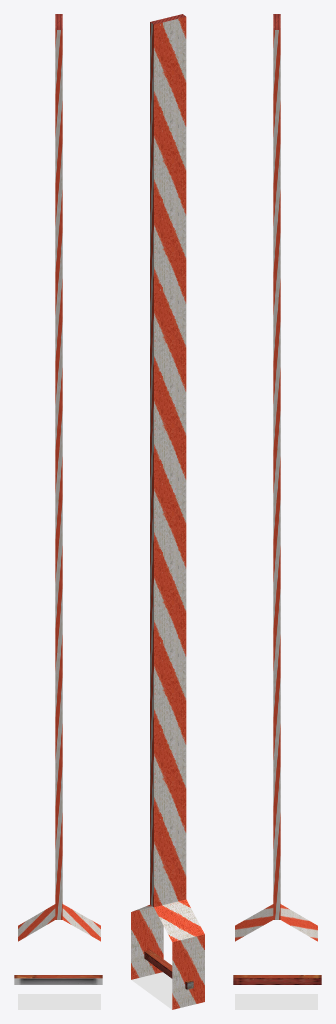
Rendered from barrierturn.obj.
3 renders of one model, left to right at view 1: azimuth 90°, elevation 25°; view 2: azimuth 210°, elevation 25°; view 3: azimuth 270°, elevation 25°, orthographic.
Parts seen in each view (by area): view 1: barrierturn_l0; view 2: barrierturn_l0; view 3: barrierturn_l0.
Boxes of the visible parts, bbox=[...] form: barrierturn_l0: bbox=[14, 14, 102, 1009]; barrierturn_l0: bbox=[131, 14, 204, 1009]; barrierturn_l0: bbox=[233, 14, 321, 1009].
Size of the model in its own units: 0.25 by 7.13 by 0.58.
Materials: 6 (6 with a texture image).
